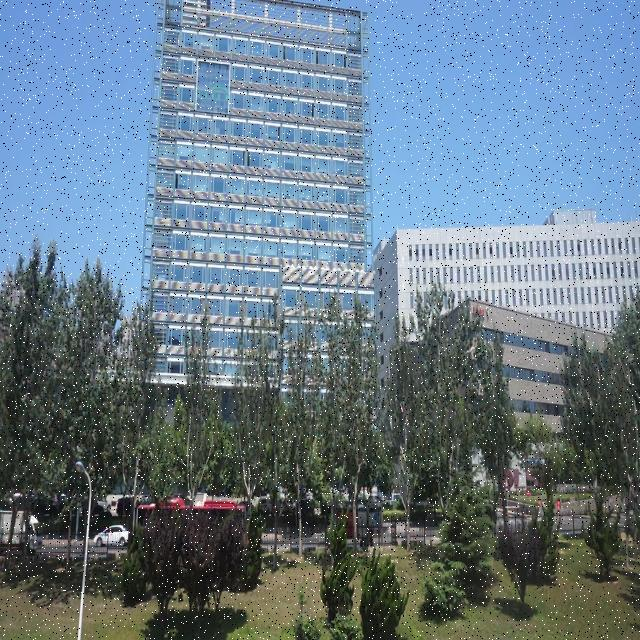UAV: (466, 347, 475, 352)
